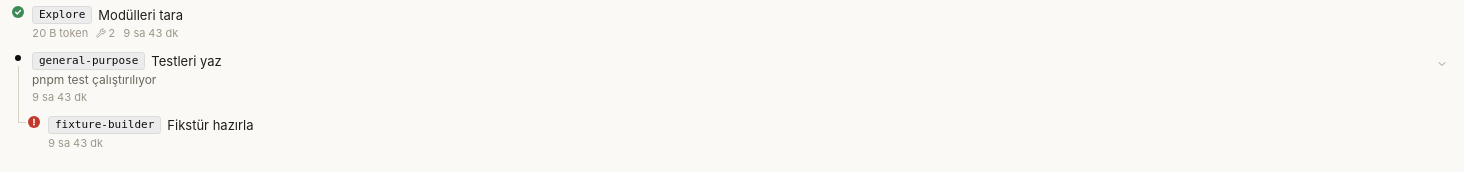
it: SubagentTreeView › selects a subagent and collapses a subtree
Click the button with aria-label "fixture-builder · Fikstür hazırla · Hata": (105, 125) [28,114,1452,152]
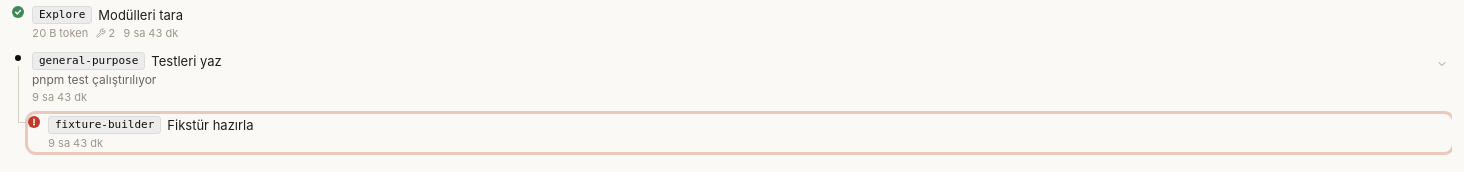
Click the button named "Alt ağacı kapat": (1442, 64) [1432,54,1452,74]
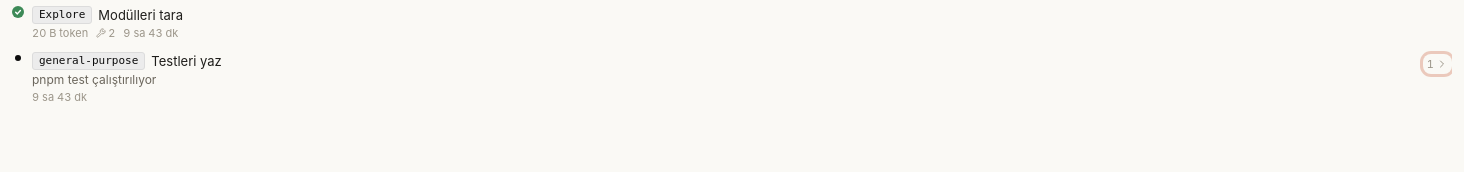
expect the button "Fikstür hazırla" is gone: met
expect the button named "Alt ağacı aç" is collapsed: met, box [1423,54,1452,74]
